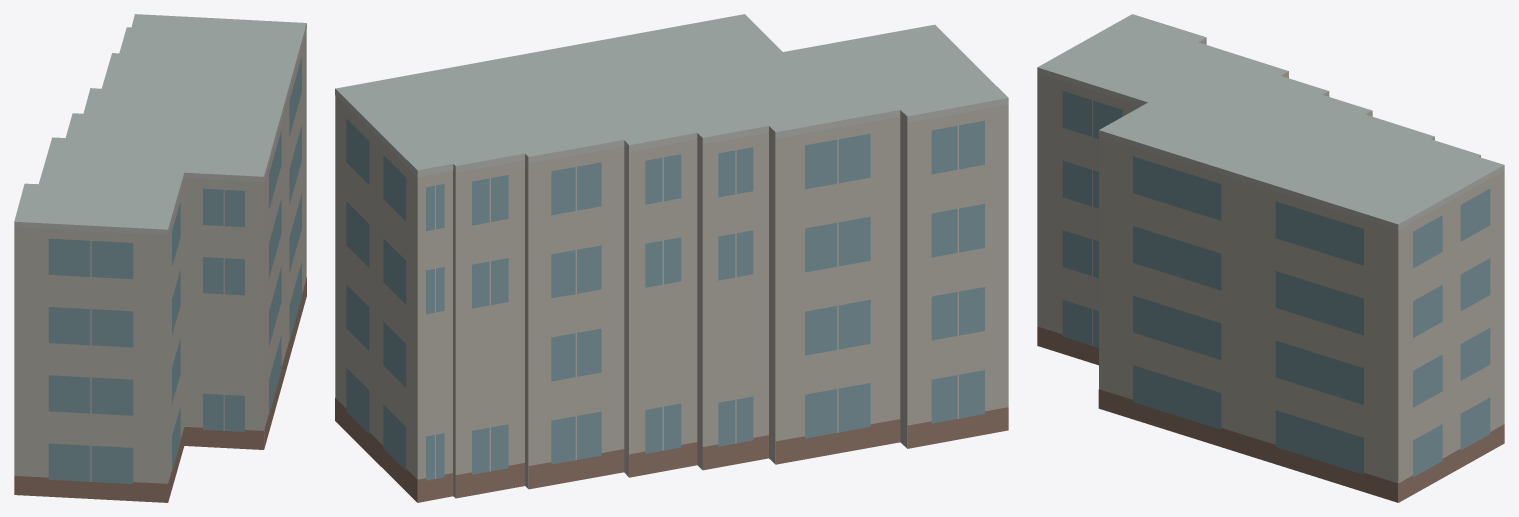
The model's file is survey-upis-32824425.glb.
The picture shows the model from 3 angles, left to right: view 1: azimuth 30°, elevation 25°; view 2: azimuth 150°, elevation 25°; view 3: azimuth 270°, elevation 25°; orthographic projection. The views are drawn at different scales.
Visible parts, largest first — view 1: survey-upis-32824425.tmp; view 2: survey-upis-32824425.tmp; view 3: survey-upis-32824425.tmp.
Part boxes in pixels (left/top/right/bottom): survey-upis-32824425.tmp: left=14, top=14, right=306, bottom=502; survey-upis-32824425.tmp: left=335, top=14, right=1008, bottom=502; survey-upis-32824425.tmp: left=1037, top=14, right=1504, bottom=502.
Bounding box in the file's own units: 19.78 × 12.2 × 18.56.
